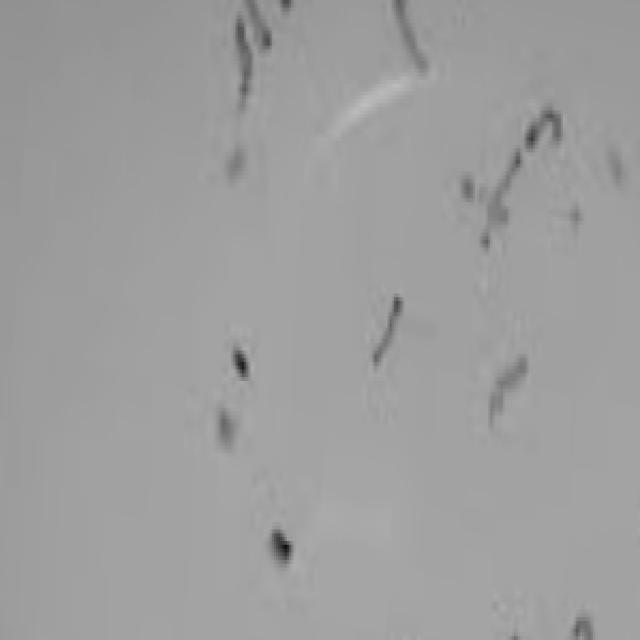larvas: (480, 148, 523, 245), (460, 171, 513, 233), (394, 3, 428, 69), (372, 298, 401, 362), (232, 20, 252, 97), (244, 0, 271, 51), (527, 107, 561, 145), (493, 356, 530, 388), (487, 390, 504, 422), (575, 614, 592, 640)
